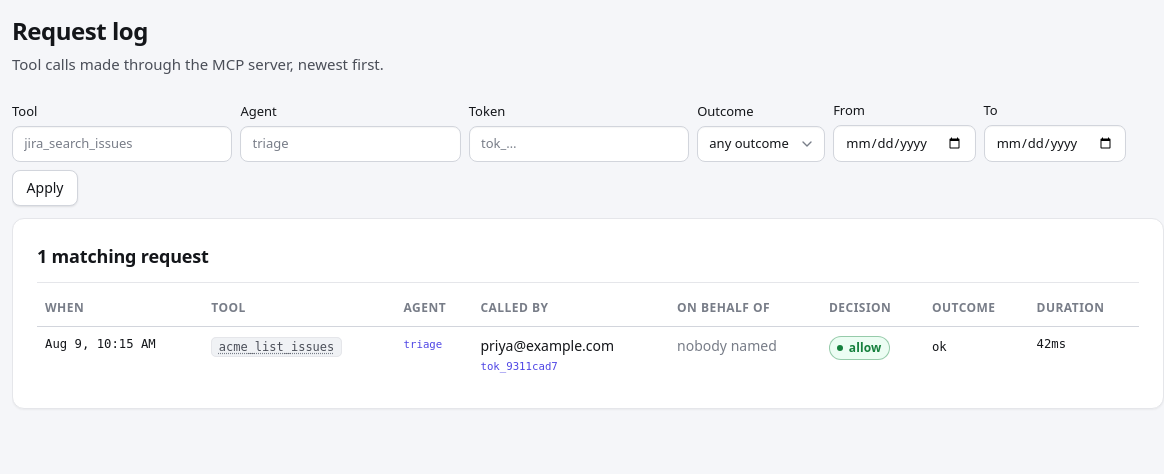
Test case: the log › links the agent and the token to their pages, and makes the tool a filter
The image size is (1164, 474).
Click the button "acme_list_issues" at [276, 347], box [219, 338, 334, 357]
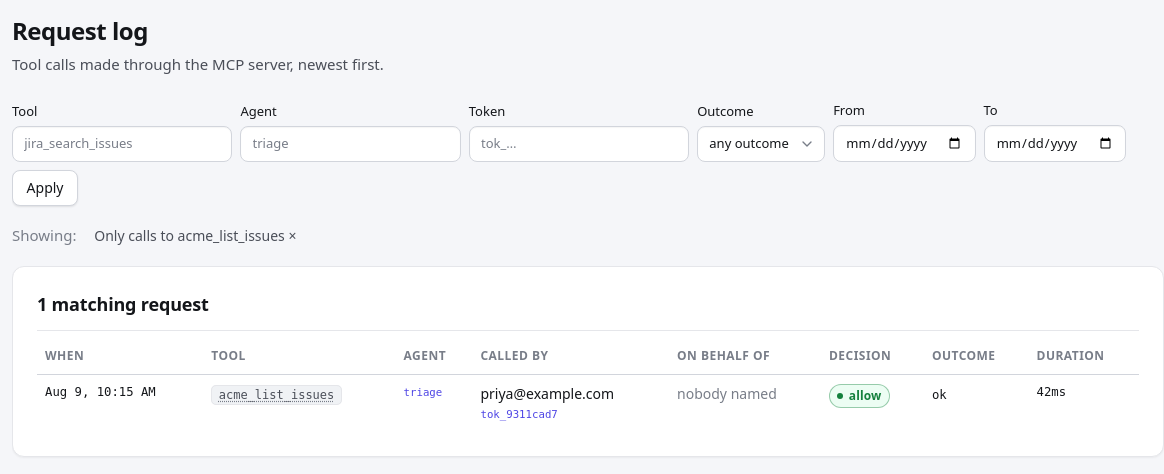
Now the button "Only calls to acme_list_issues ×" is shown, box [84, 218, 306, 254]
